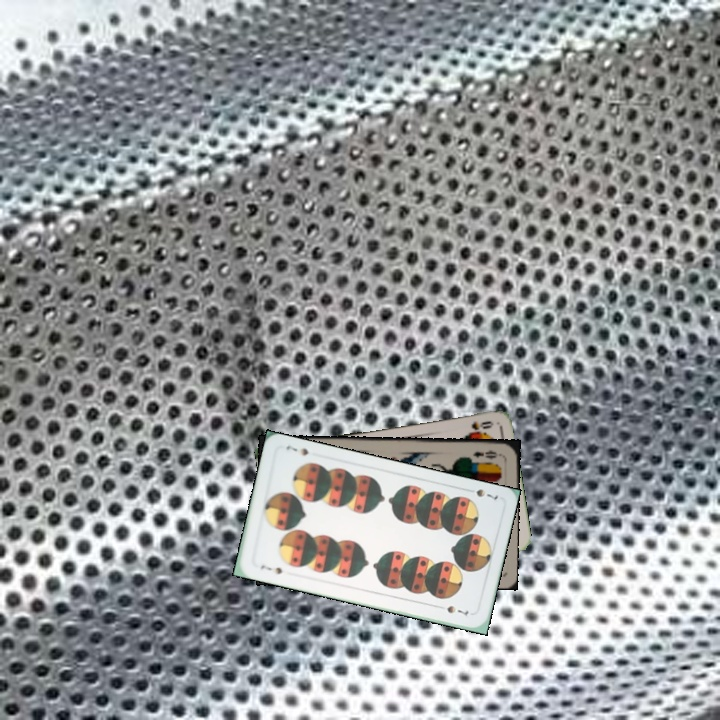EO: (470, 446, 503, 462)
S7: (462, 485, 501, 503), (256, 561, 285, 577)
SO: (465, 417, 496, 436)
